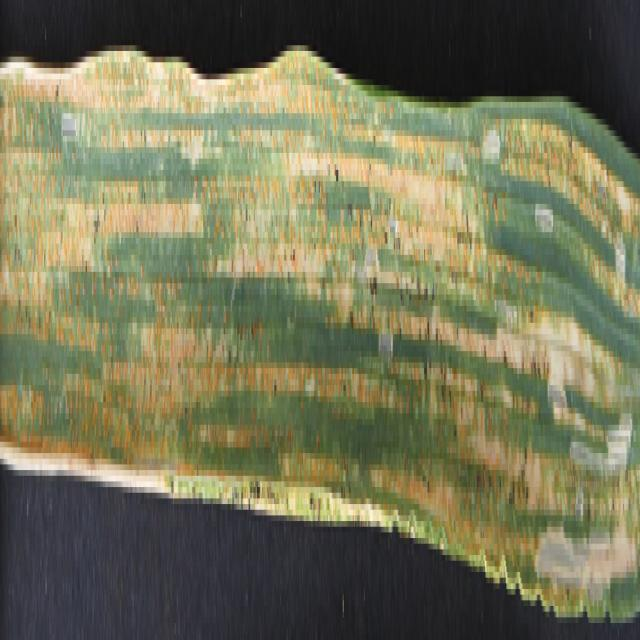leaf rust: (1, 74, 534, 544)
